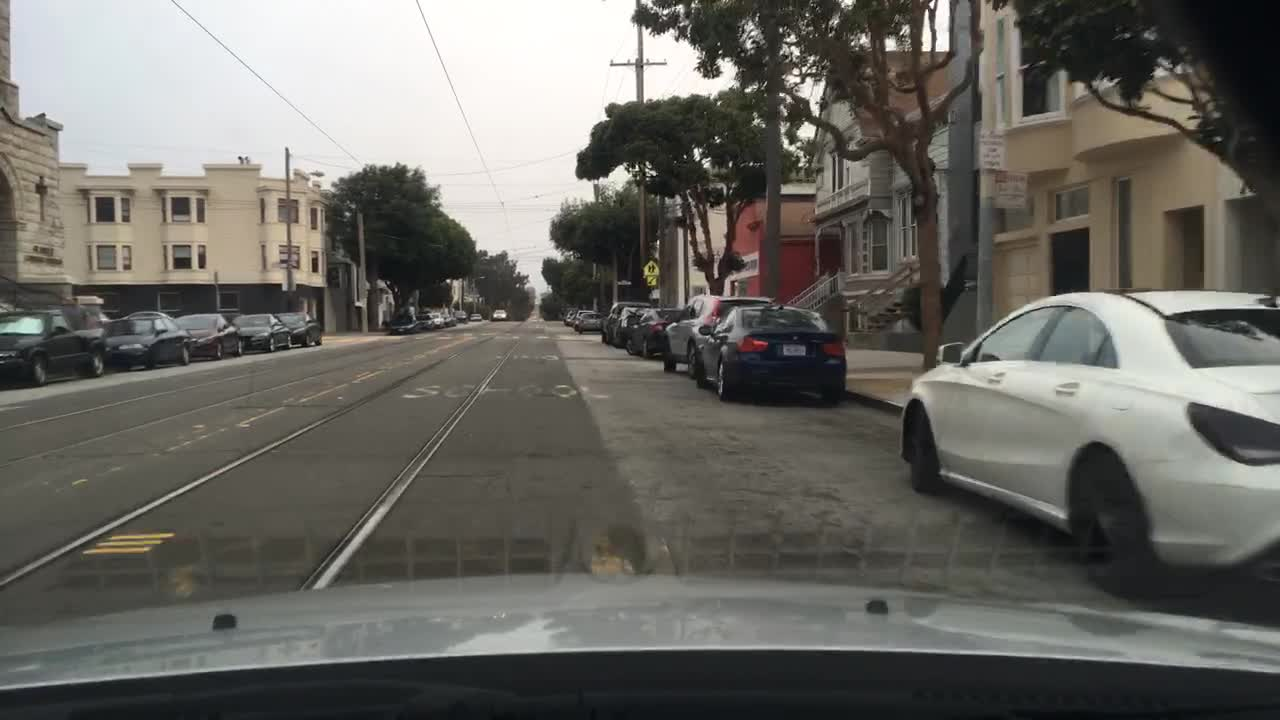car: (899, 286, 1278, 601), (695, 305, 850, 403), (666, 294, 772, 369), (97, 311, 192, 368), (174, 313, 243, 358), (628, 306, 675, 357), (232, 313, 293, 352), (613, 307, 648, 351), (277, 311, 322, 344), (602, 302, 637, 340), (387, 311, 421, 332), (580, 309, 603, 331), (415, 311, 437, 329), (572, 307, 586, 325), (490, 306, 506, 321), (439, 308, 451, 322), (455, 308, 467, 321), (469, 312, 481, 321), (565, 308, 572, 323)
traffic sign: (977, 138, 1008, 171), (641, 261, 658, 286)
truck: (1, 308, 107, 386)
